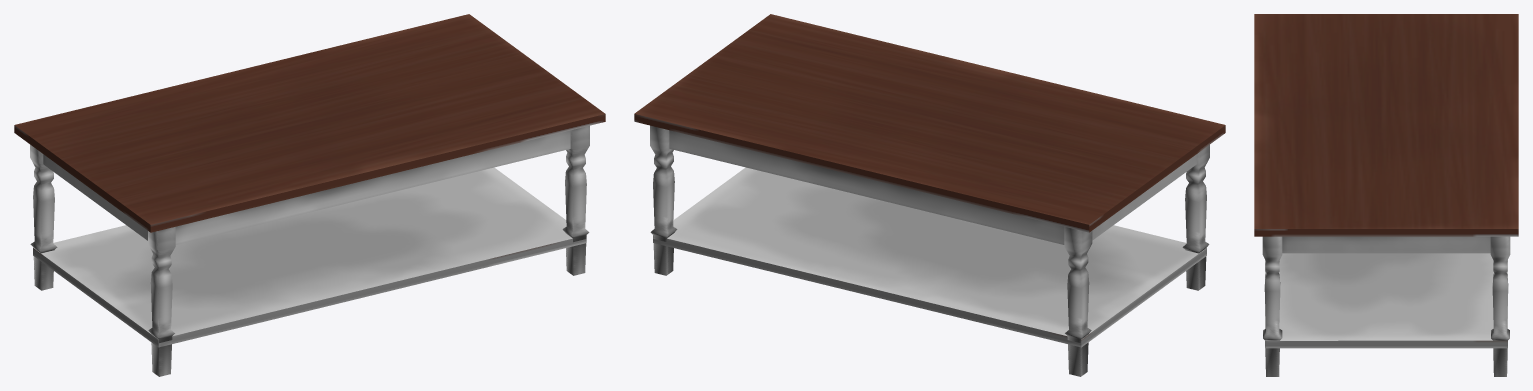
Rendered from Coffee_Table.fbx.
3 renders of one model, left to right at view 1: azimuth 30°, elevation 25°; view 2: azimuth 150°, elevation 25°; view 3: azimuth 270°, elevation 25°, orthographic. The views are drawn at different scales.
Visible parts, largest first — view 1: Coffee_Table; view 2: Coffee_Table; view 3: Coffee_Table.
Part boxes in pixels (bbox=[...]): Coffee_Table: bbox=[14, 14, 605, 376]; Coffee_Table: bbox=[634, 14, 1225, 376]; Coffee_Table: bbox=[1254, 14, 1518, 376].
Size of the model in its own units: 1.7 by 0.57 by 0.8809.
